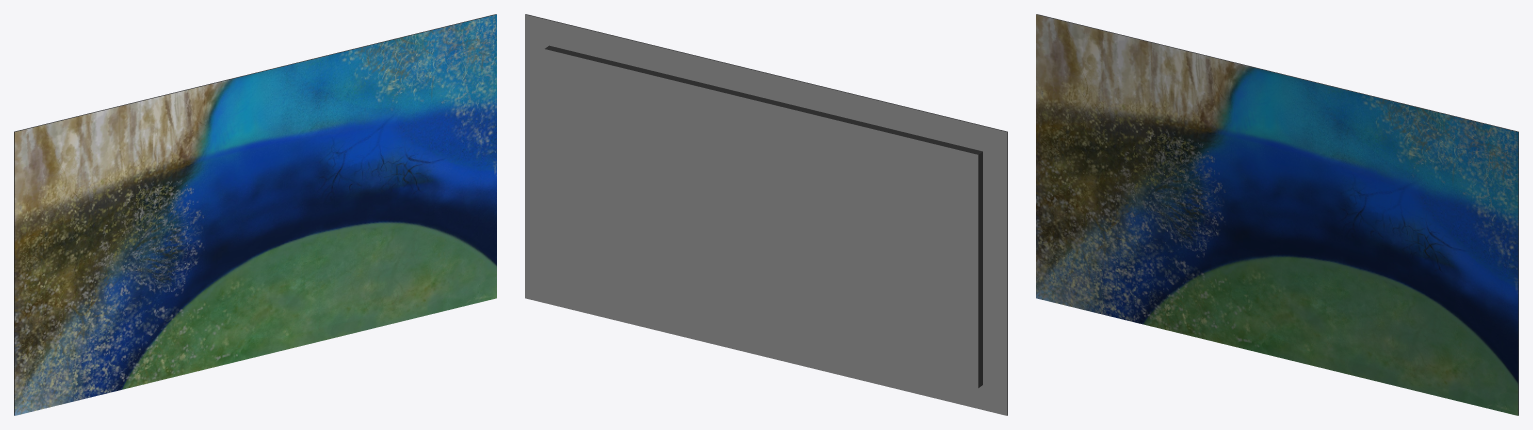
File: hz044_grand_dibond.glb
3 views of the same model, side by side, from view 1: azimuth 30°, elevation 25°; view 2: azimuth 150°, elevation 25°; view 3: azimuth 330°, elevation 25° (orthographic).
Parts seen in each view (by area): view 1: hz044_grand_dibond; view 2: hz044_grand_dibond; view 3: hz044_grand_dibond.
Part boxes in pixels (<box>): hz044_grand_dibond: <box>14,14,496,415</box>; hz044_grand_dibond: <box>525,14,1007,415</box>; hz044_grand_dibond: <box>1036,14,1518,415</box>.
Size of the model in its own units: 1.2 by 0.675 by 0.023.
4 materials, 1 textured.
